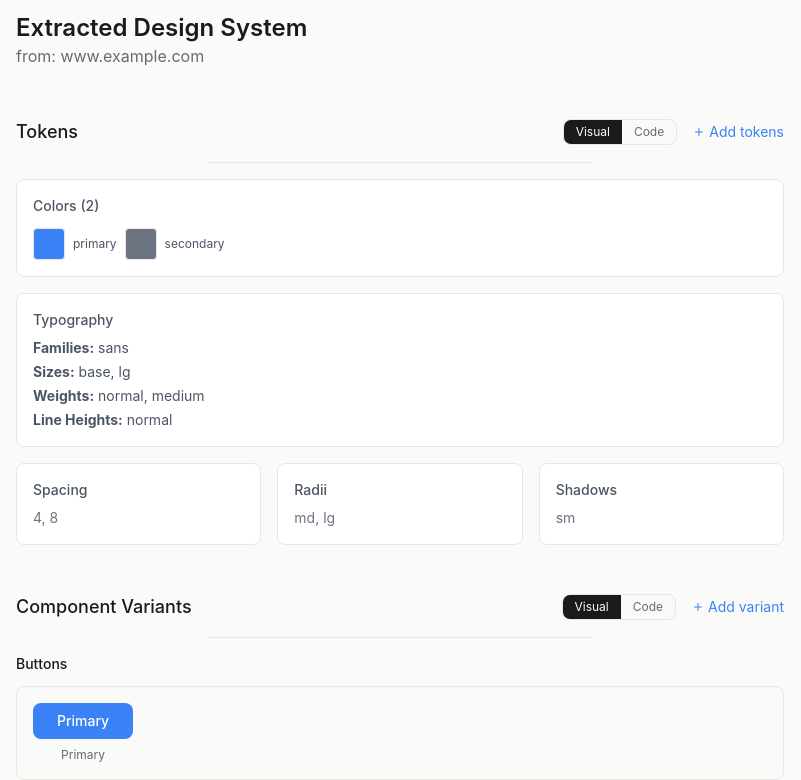
Test: ReviewStep › switches to code view when Code button clicked
Click the 1st button "Code": [649, 132] box [622,120,676,144]
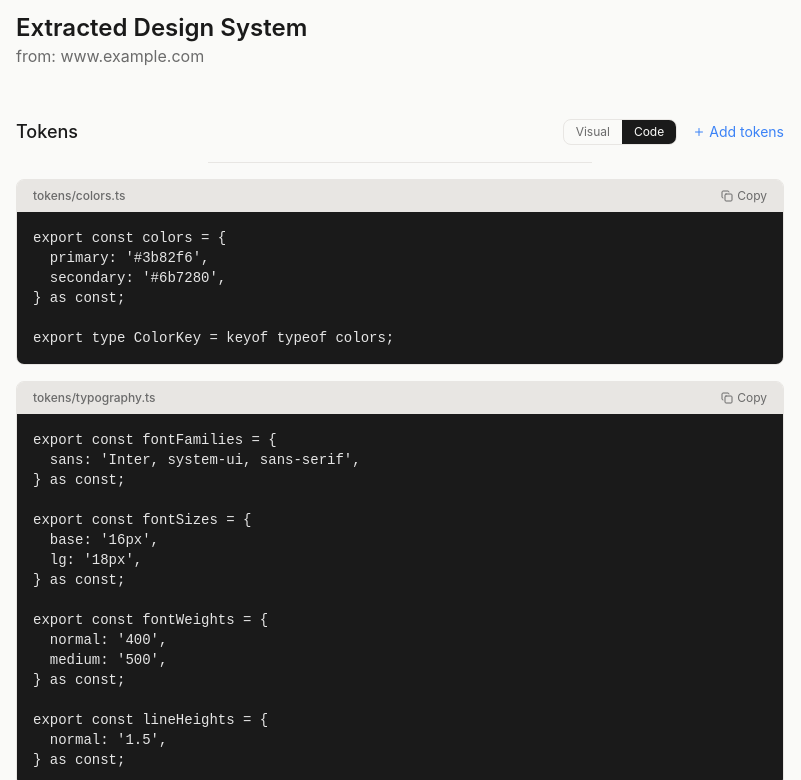
Now the text "tokens/colors.ts" is shown, box [33,188,126,204]
